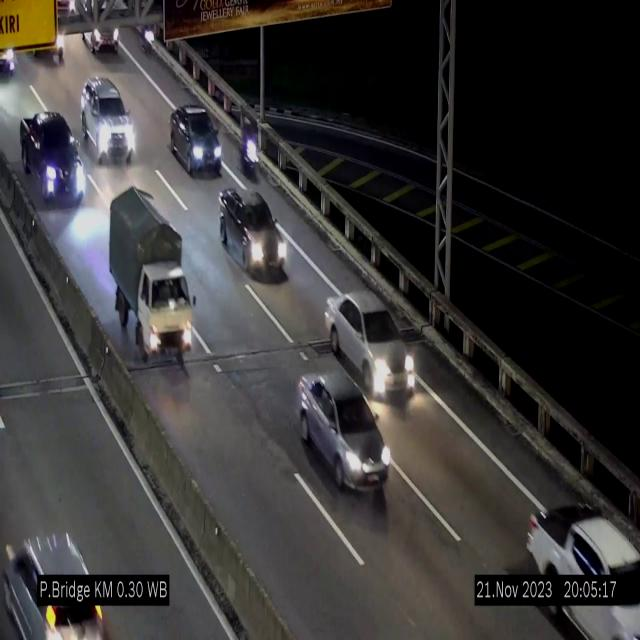Car: (522, 472, 640, 640), (0, 515, 113, 640), (325, 290, 421, 415), (298, 372, 390, 490), (18, 116, 88, 212), (219, 188, 287, 280), (80, 79, 136, 163), (170, 105, 223, 174), (81, 7, 127, 58)
Motorcycle: (242, 111, 260, 181), (137, 12, 157, 57)
Truck: (110, 186, 192, 368)
